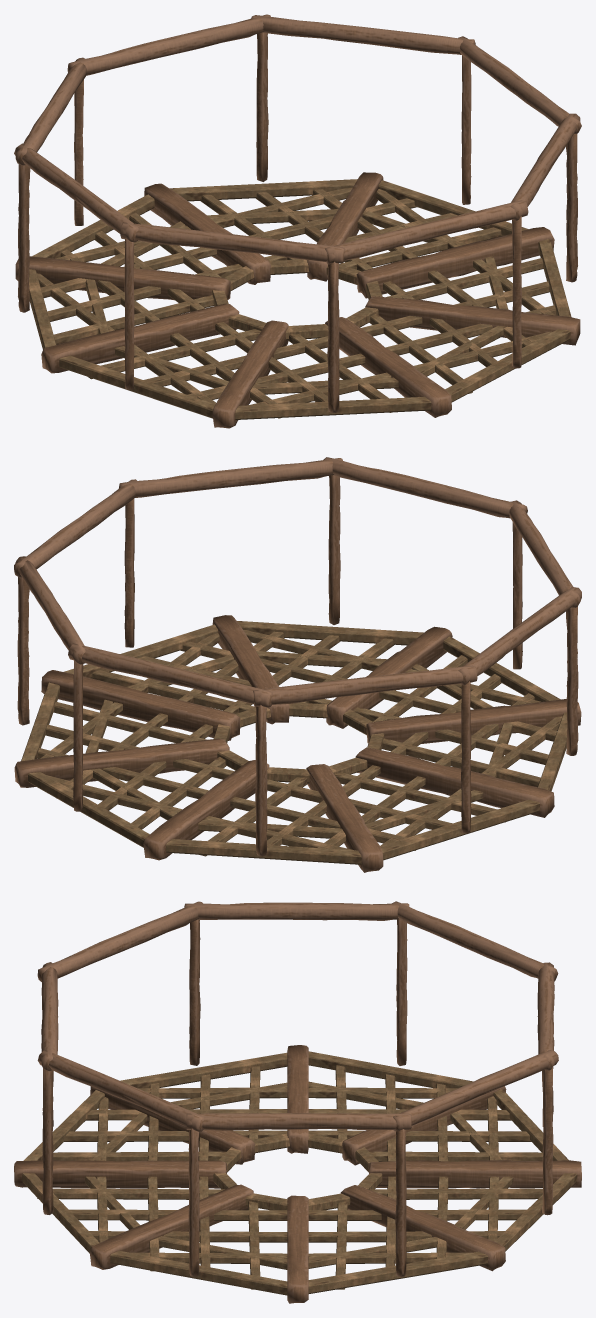
Rendered from SM_platform_004.fbx.
3 views of the same model, one above another, from view 1: azimuth 30°, elevation 25°; view 2: azimuth 150°, elevation 25°; view 3: azimuth 270°, elevation 25° (orthographic). The views are drawn at different scales.
Parts seen in each view (by area): view 1: platform_004; view 2: platform_004; view 3: platform_004.
Part boxes in pixels (box(x1,y1,x2,y2)): platform_004: box(14, 14, 581, 428); platform_004: box(14, 457, 581, 872); platform_004: box(14, 901, 581, 1303).
Bounding box in the file's own units: 799 × 273 × 799.
